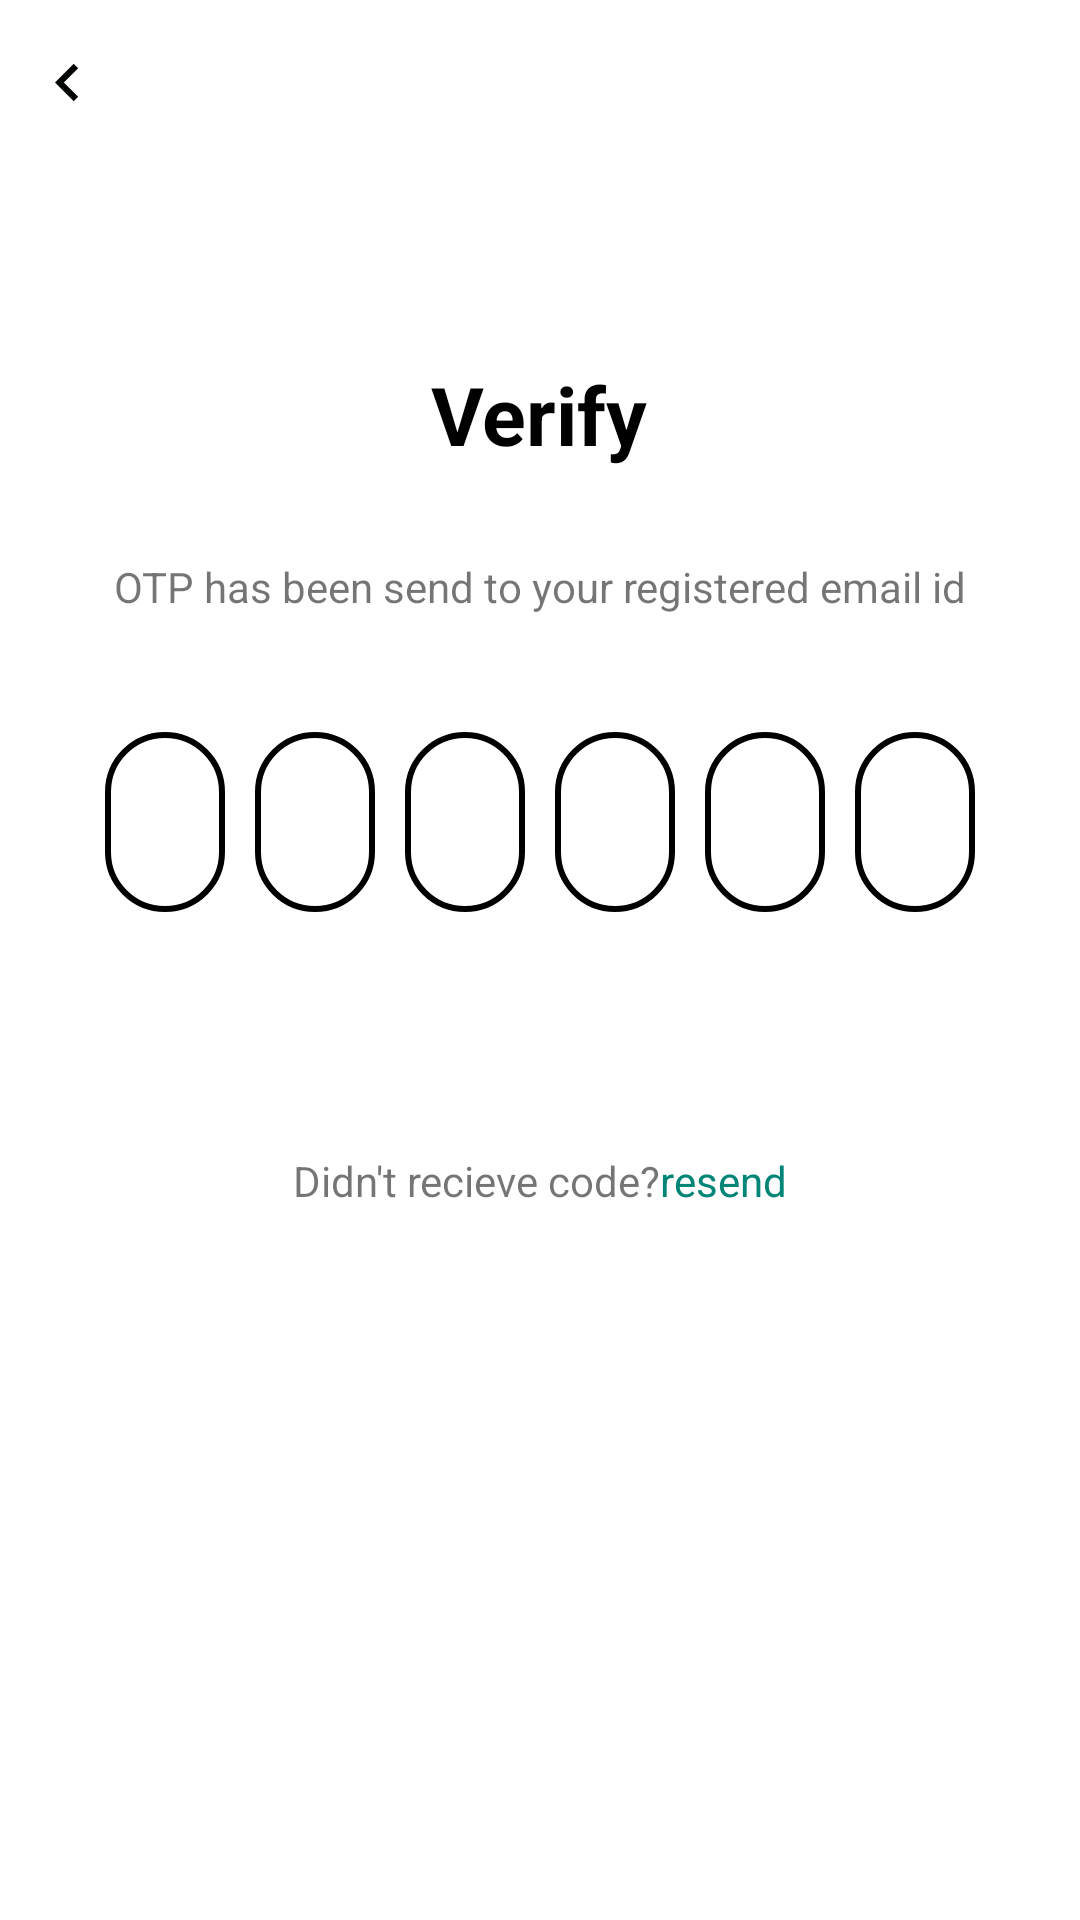

Icon click points for this 1080px×1920px phone screenshot, format (x=x, y=y):
left: (x=66, y=82)
